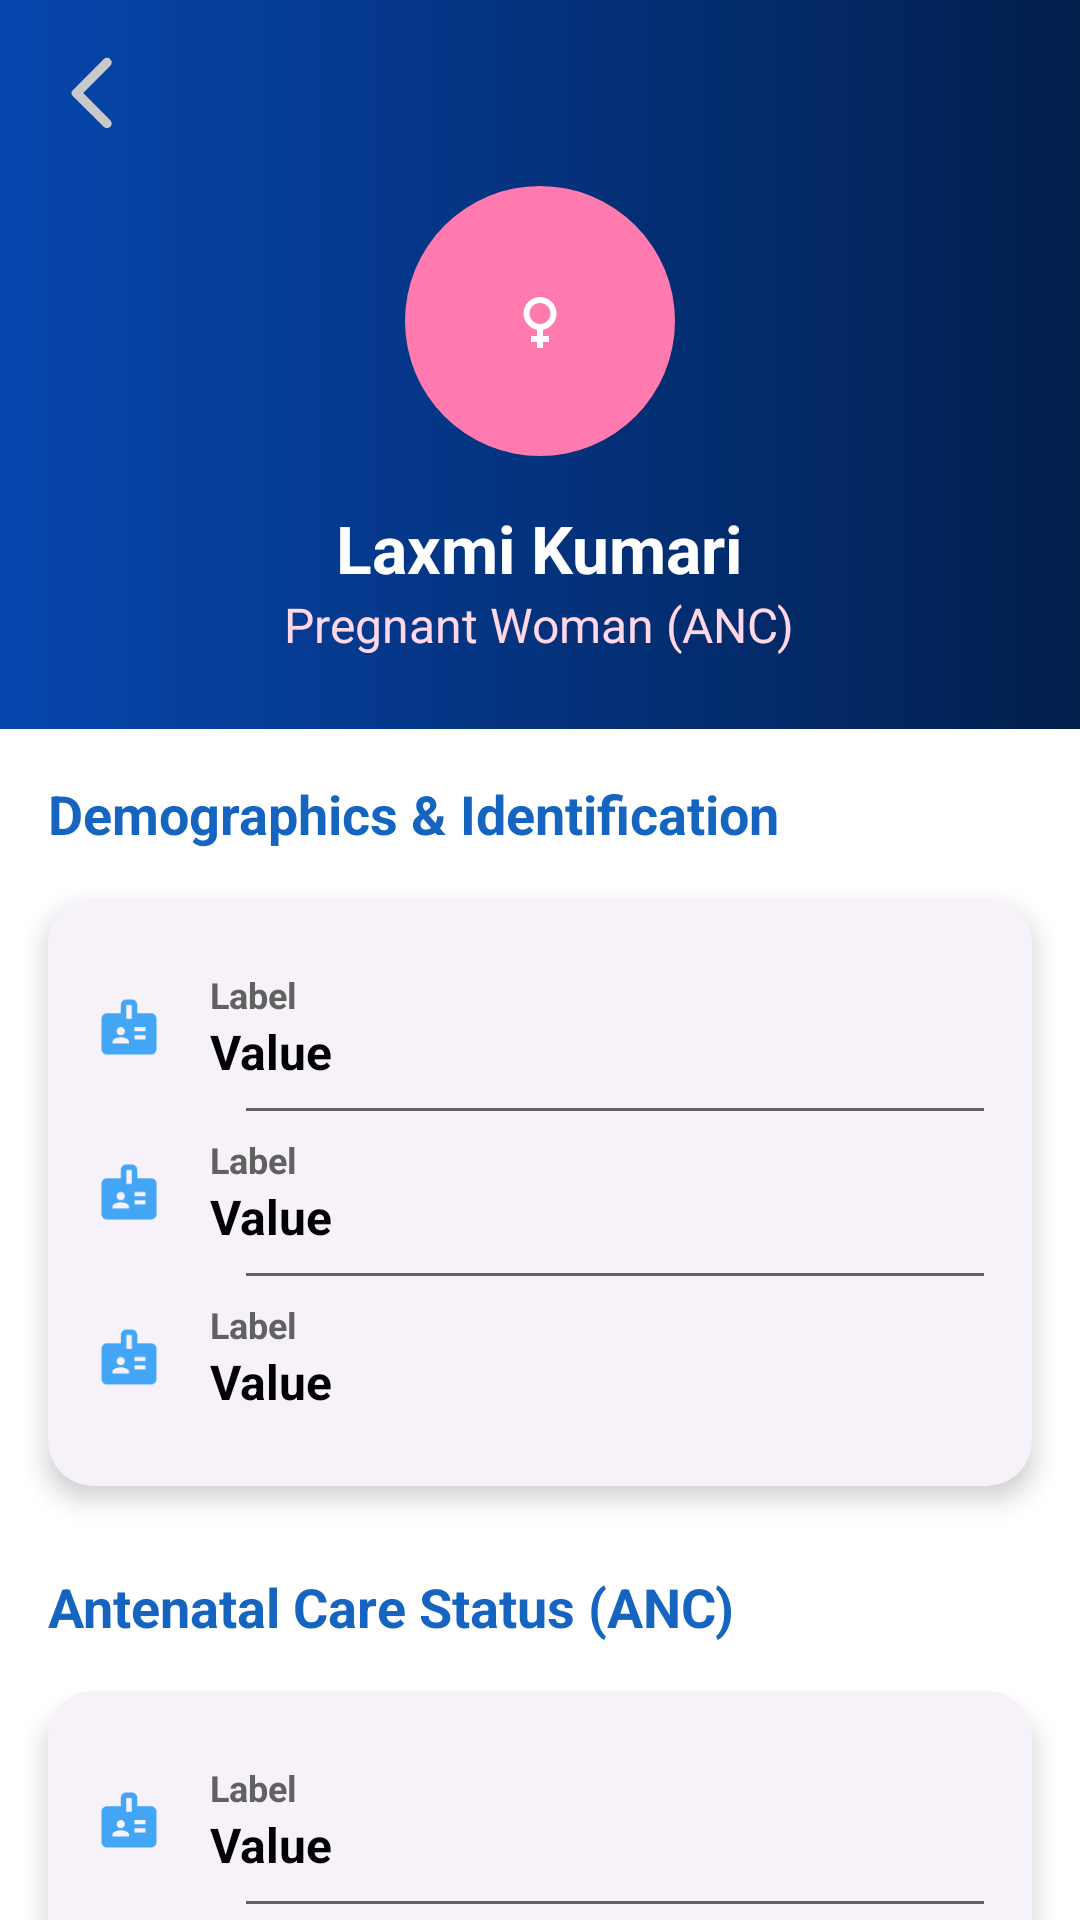

Locate icon controls on the screen. Image size 1080 × 1920, boxes as (x1,y1,x2,y2).
back: (71,57,112,129)
badge: (101,999,157,1055), (101,1164,157,1220), (101,1329,157,1385), (101,1792,157,1848)
female: (405,186,675,456)
